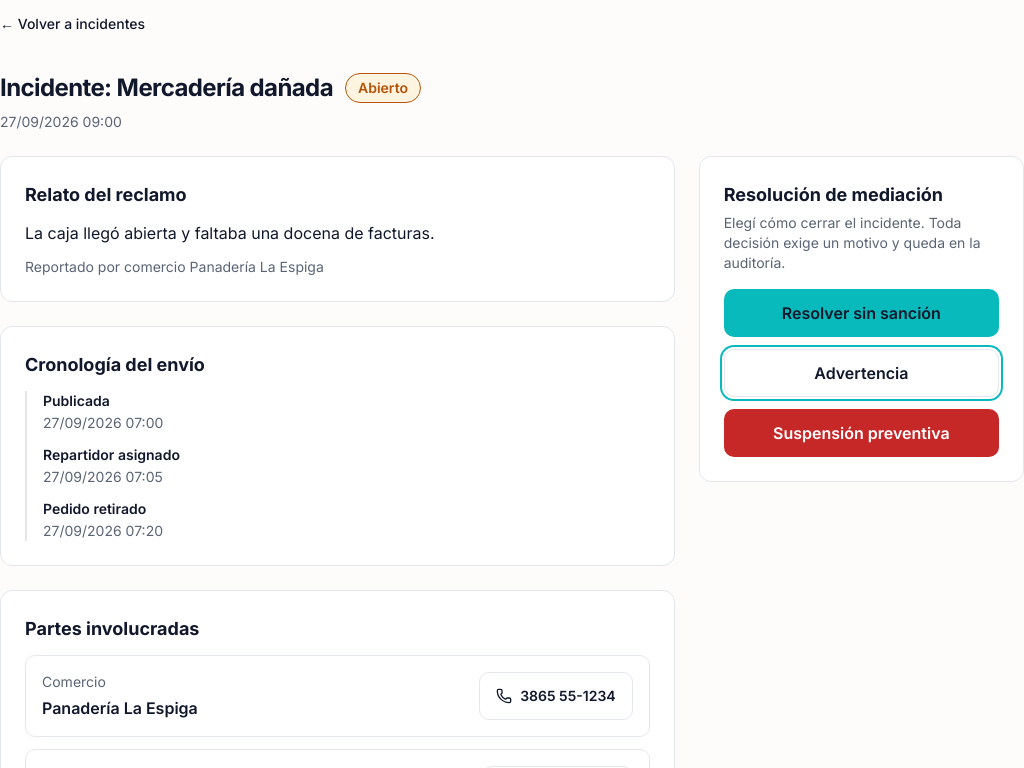
Test: PR113-H07/H08: Dialogs de resolución de A05 › warning: Escape cierra el Dialog y el foco vuelve al mismo botón
Click the button "Advertencia".
click(861, 373)  # box [724, 349, 999, 397]
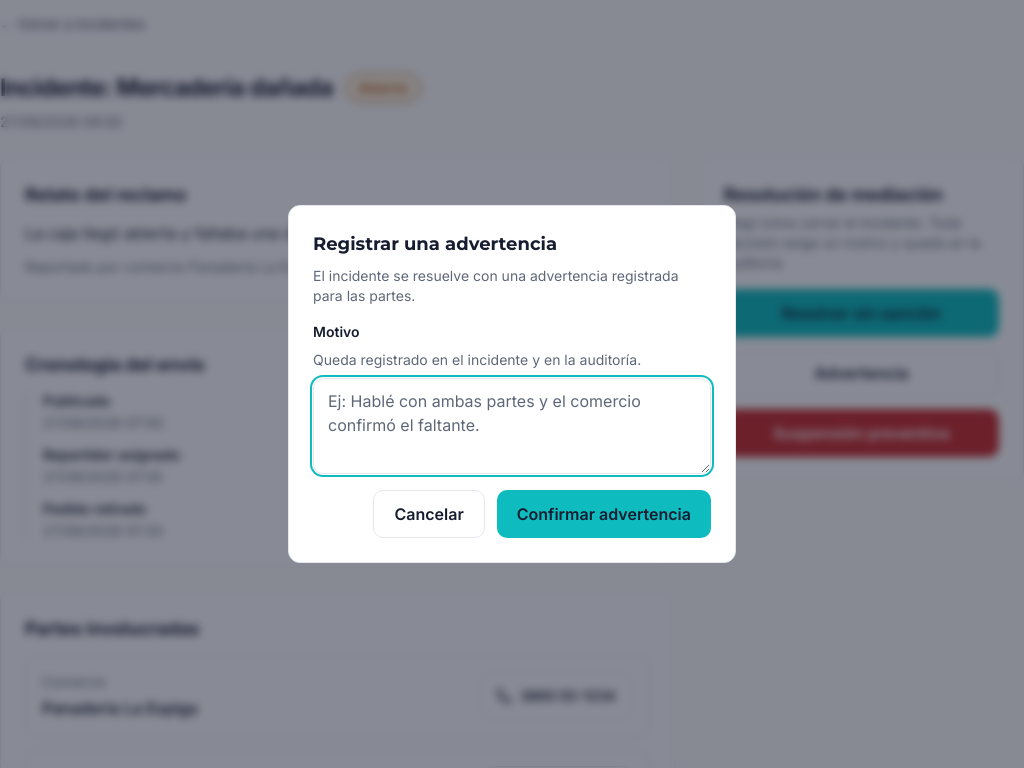
Expected: the text box labelled "Motivo" is shown, [313, 378, 711, 474]
Press Escape in the dialog, box [288, 205, 736, 563]
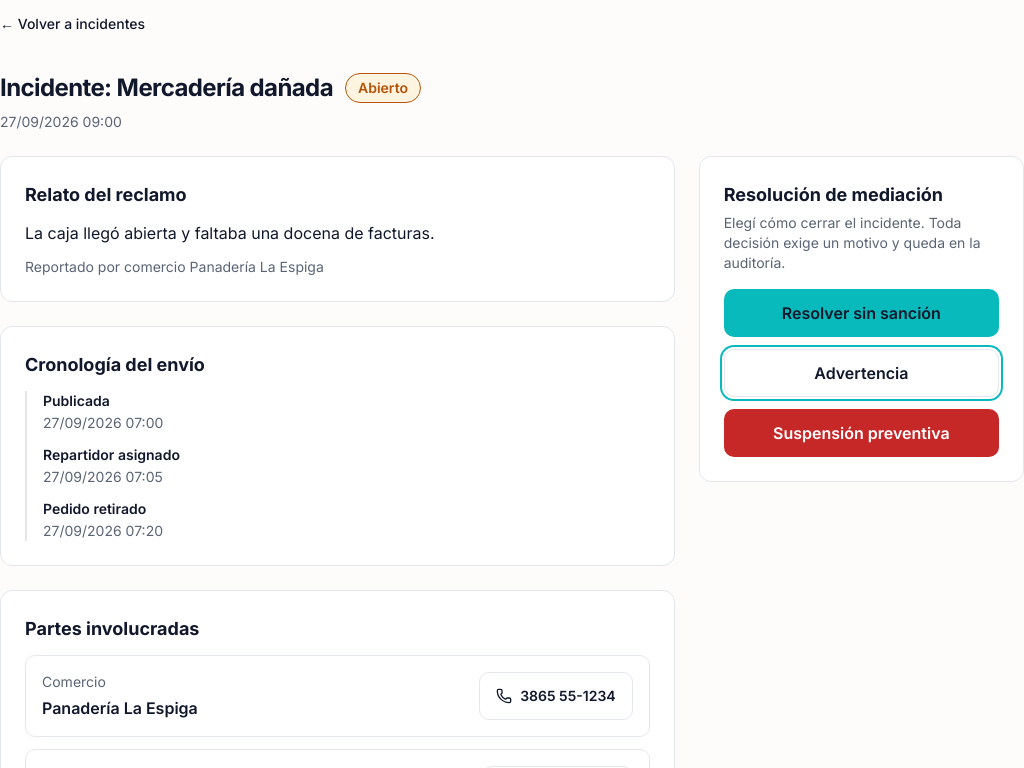
Expected: the dialog is gone
